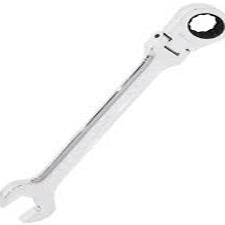Wrench: (1, 4, 225, 224)
